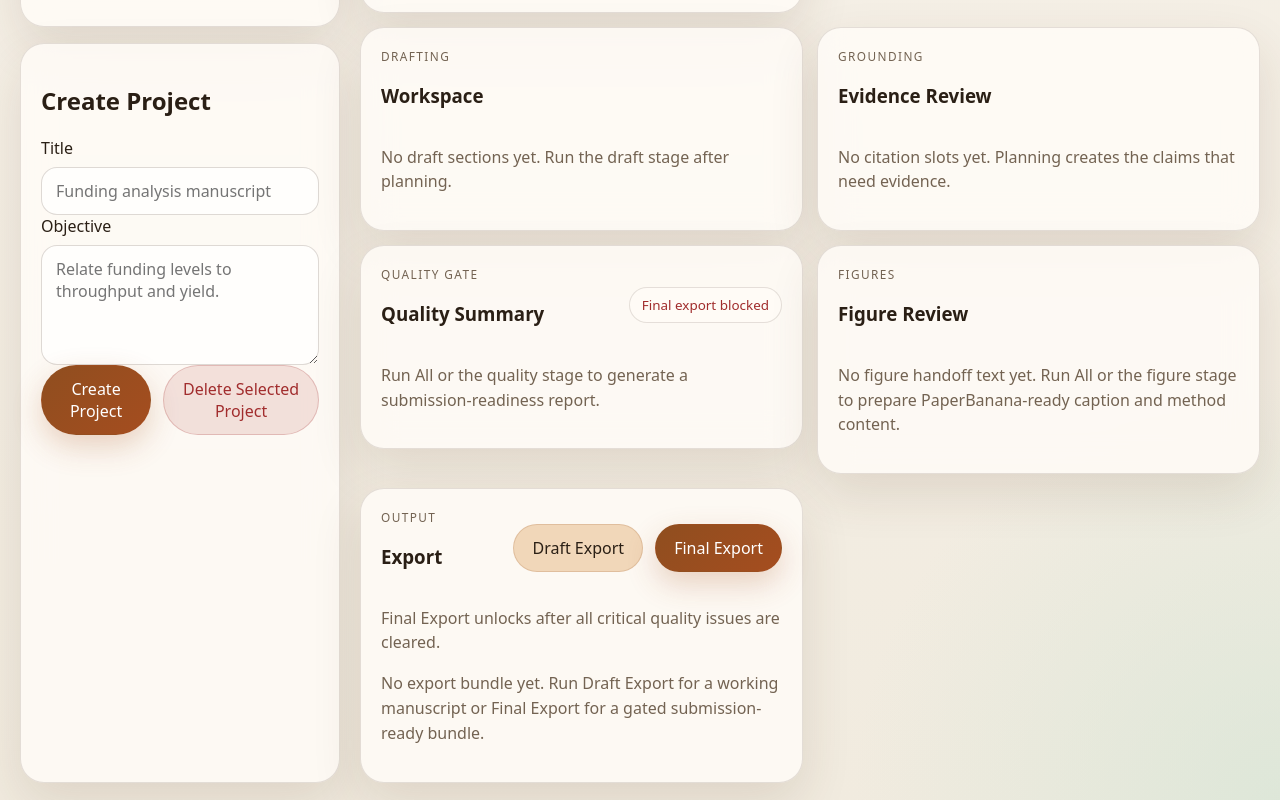
Scenario: App › deletes the selected project and clears the workspace when no projects remain
(page scrolled)
Click the button "Delete Selected Project".
click(241, 400)  # box x1=163 y1=365 x2=319 y2=435
(page scrolled)
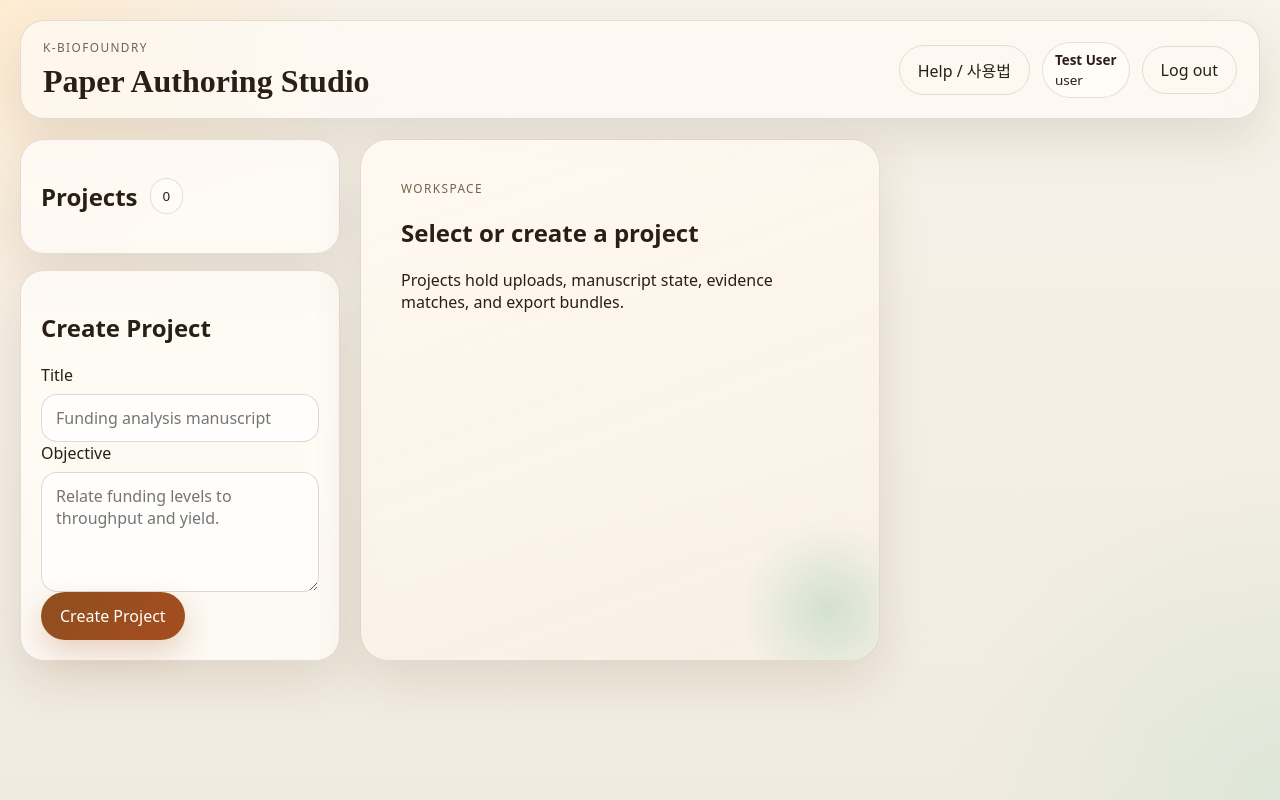
Result: the heading "Select or create a project" is shown at x1=401 y1=216 x2=699 y2=249
